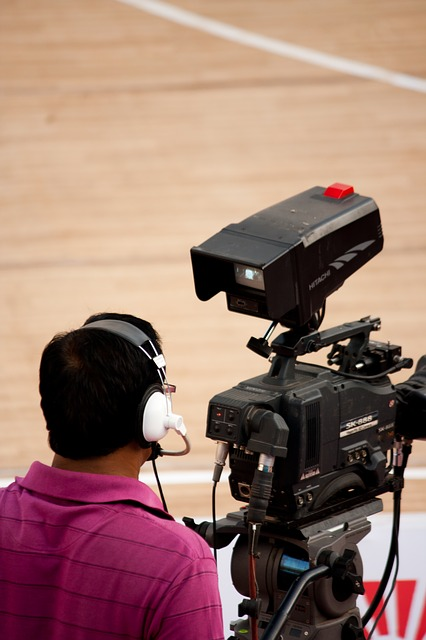headphones: (77, 320, 174, 442)
